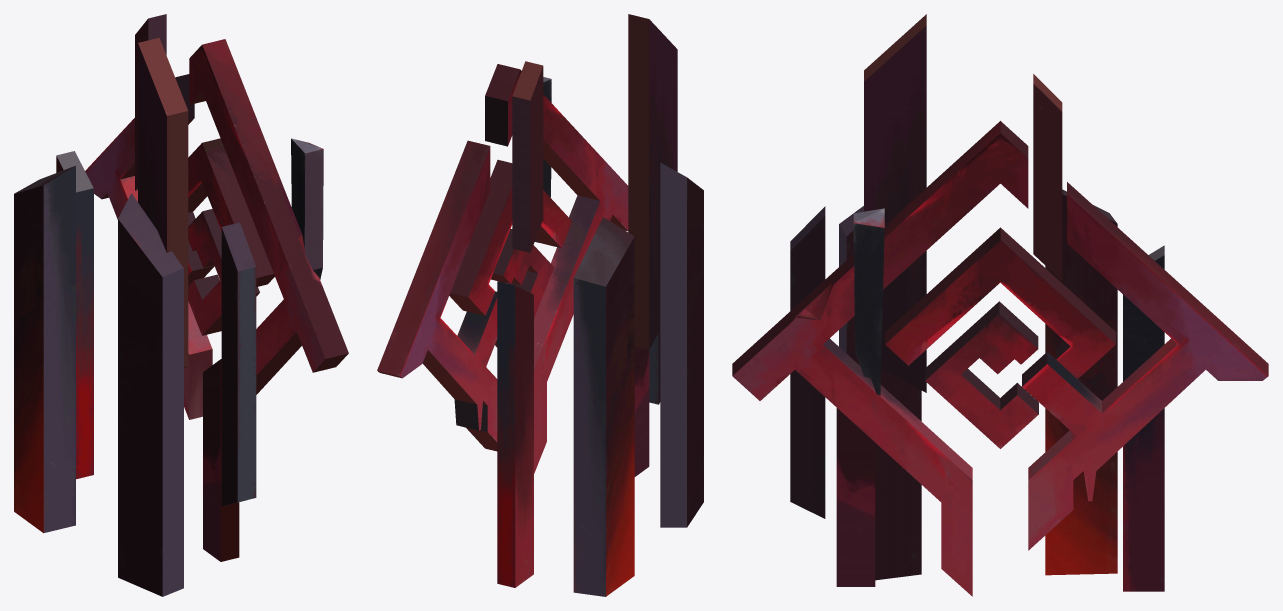
File: trap_148_amblls.fbx
3 renders of one model, left to right at view 1: azimuth 30°, elevation 25°; view 2: azimuth 150°, elevation 25°; view 3: azimuth 270°, elevation 25°, orthographic. The views are drawn at different scales.
Parts seen in each view (by area): view 1: trap_148_amblls; view 2: trap_148_amblls; view 3: trap_148_amblls.
Part boxes in pixels (<box>): trap_148_amblls: <box>14,14,348,596</box>; trap_148_amblls: <box>377,14,703,596</box>; trap_148_amblls: <box>732,14,1268,596</box>.
Size of the model in its own units: 0.5256 by 1.36 by 1.17.
Materials: 1 (1 with a texture image).
